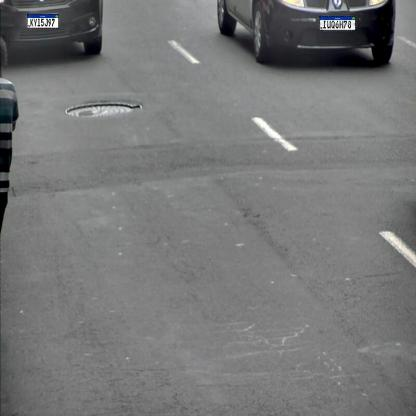PlacaM: (319, 16, 356, 30), (27, 14, 59, 28)
